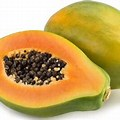papaya: (1, 30, 112, 118)
